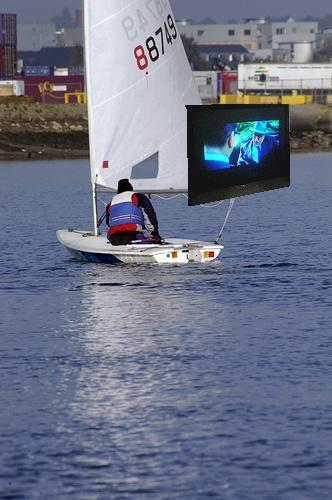tampered: (186, 105, 290, 206)
